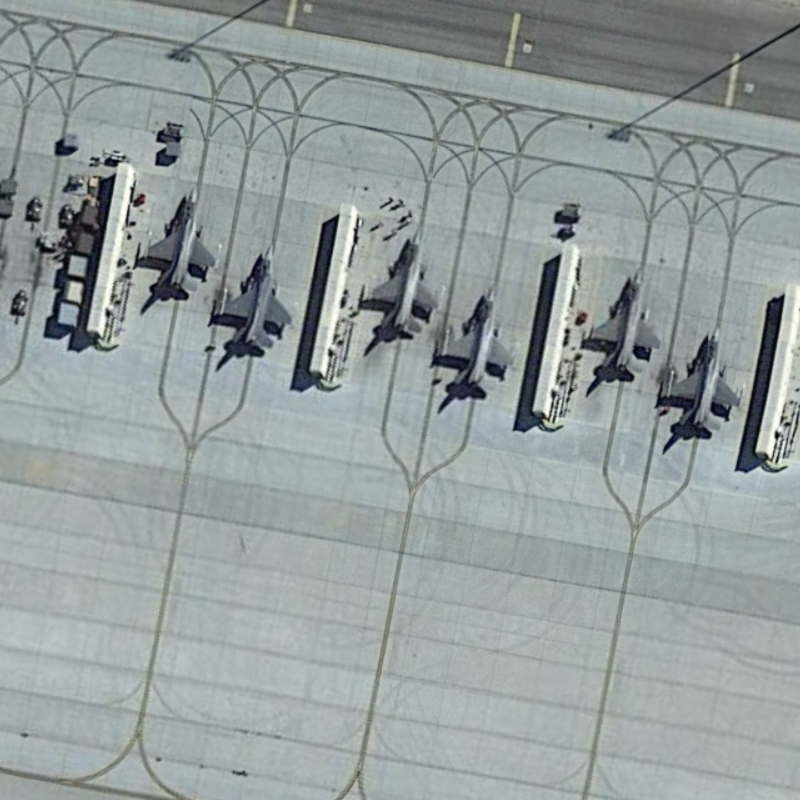A5: (128, 174, 220, 305), (658, 319, 749, 448), (206, 239, 302, 358), (355, 222, 447, 346), (432, 277, 516, 405), (582, 261, 666, 389)
